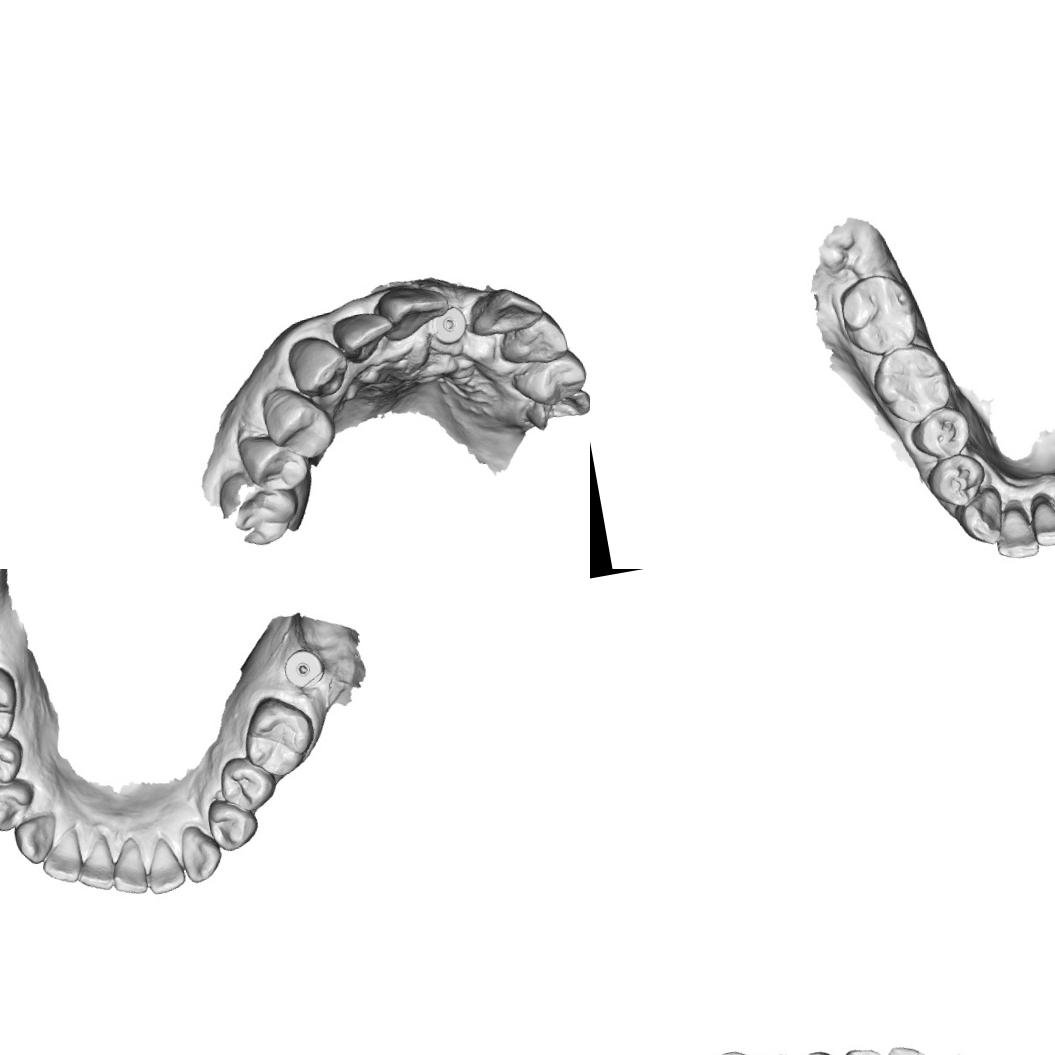canine: (494, 306, 571, 370), (284, 330, 352, 402), (950, 484, 1008, 552), (176, 819, 226, 885), (10, 811, 63, 867)
implant: (279, 644, 328, 692), (428, 302, 470, 348)
incisor: (373, 278, 453, 344), (463, 280, 546, 340), (329, 306, 399, 368), (140, 832, 187, 896), (990, 503, 1040, 563), (36, 827, 86, 886), (70, 832, 117, 894), (105, 834, 149, 899), (1026, 496, 1055, 549)
molar: (211, 460, 306, 552), (834, 268, 924, 361), (866, 337, 956, 430), (234, 689, 320, 782), (0, 660, 25, 747)
premolar: (256, 378, 340, 466), (234, 424, 312, 499), (507, 345, 590, 411), (215, 750, 280, 817), (906, 400, 974, 462), (924, 449, 990, 510), (202, 790, 263, 854), (0, 776, 41, 835), (0, 729, 27, 792)
